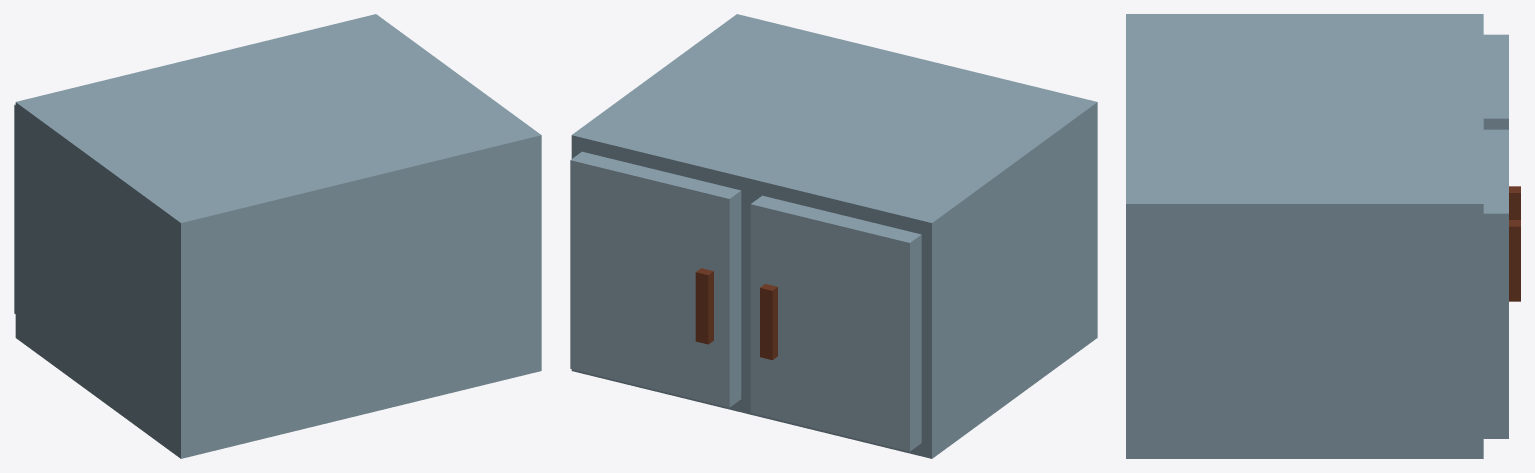
File: cabinet.fbx
3 renders of one model, left to right at view 1: azimuth 30°, elevation 25°; view 2: azimuth 150°, elevation 25°; view 3: azimuth 270°, elevation 25°, orthographic. The views are drawn at different scales.
Visible parts, largest first — view 1: Cabinet; view 2: Cabinet; view 3: Cabinet.
Part boxes in pixels (x1,y1,x2,y2): Cabinet: [14, 14, 541, 458]; Cabinet: [570, 14, 1097, 458]; Cabinet: [1126, 14, 1520, 458].
Size of the model in its own units: 77.86 by 48.66 by 68.32.
